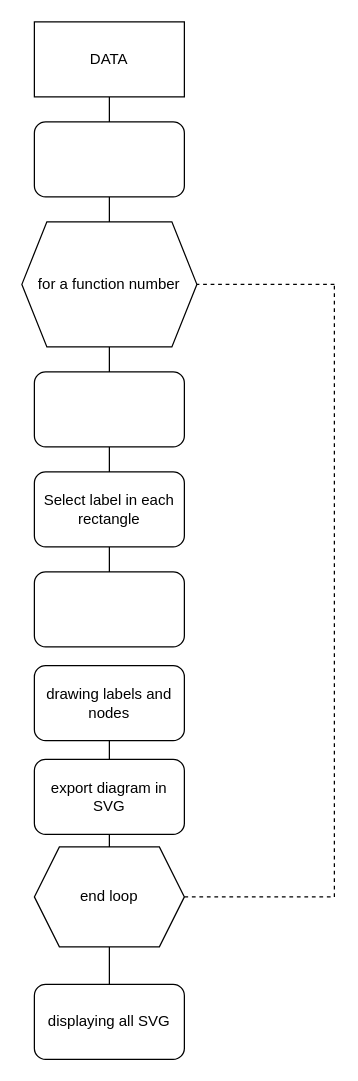
This 358x1081 diagram has some shape labels left out. Here are the shapes that lost their labels. From the top down, the centre of each, then its label:
the point at 108,159: count a function number
the point at 108,409: count a different rectangle
the point at 108,609: search nodes
